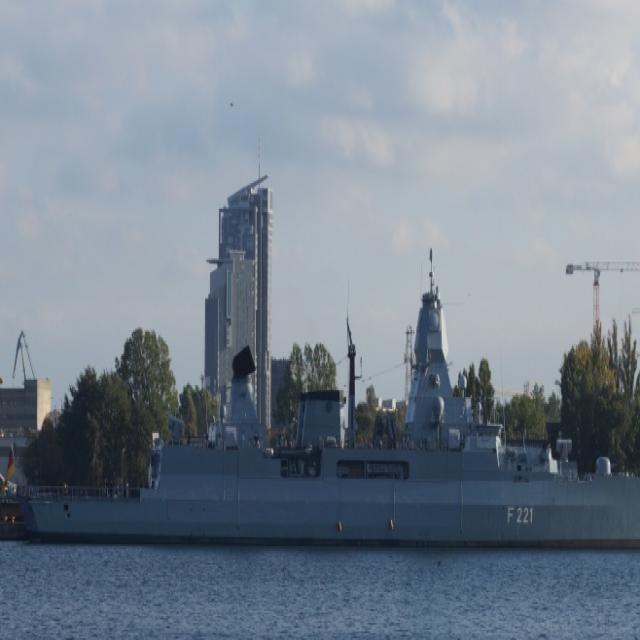Fragata: (14, 225, 640, 548)
